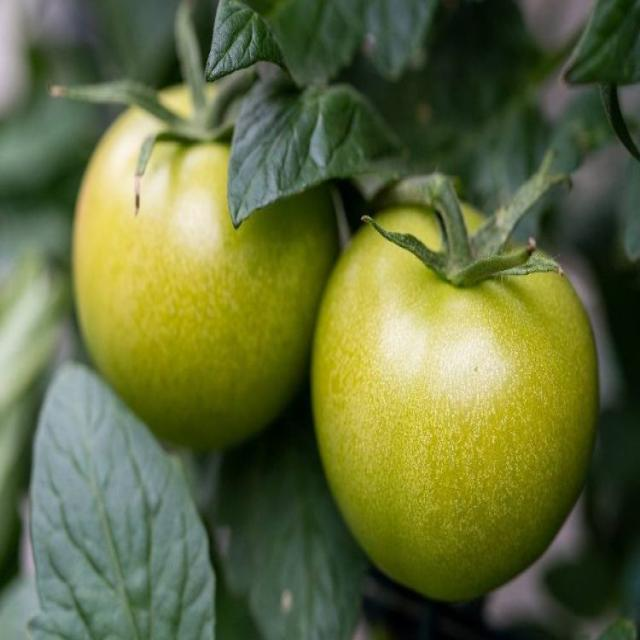level 3: (312, 203, 600, 602), (68, 79, 336, 452)
